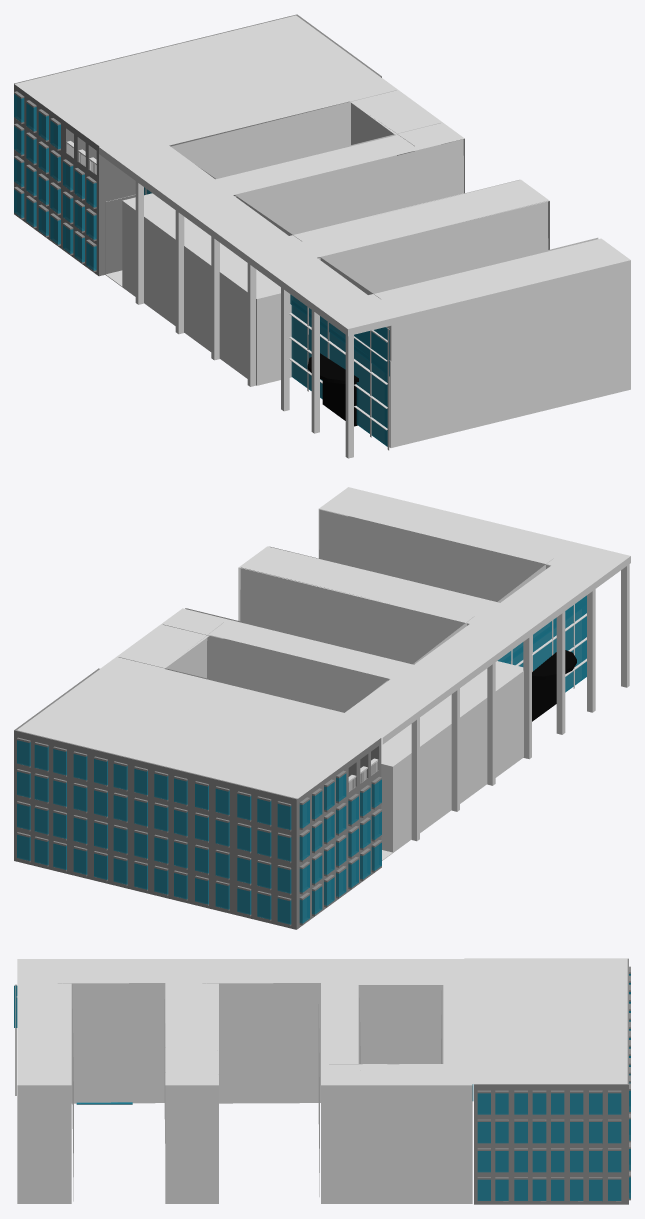
3 renders of one model, top to bottom at view 1: azimuth 30°, elevation 25°; view 2: azimuth 150°, elevation 25°; view 3: azimuth 270°, elevation 25°, orthographic. The views are drawn at different scales.
Visible parts, largest first — view 1: Box001; view 2: Box001; view 3: Box001.
Part boxes in pixels (x1,y1,x2,y2): Box001: (14,14,630,458); Box001: (14,487,630,929); Box001: (14,958,630,1204).
Size of the model in its own units: 18.76 by 8.31 by 38.
